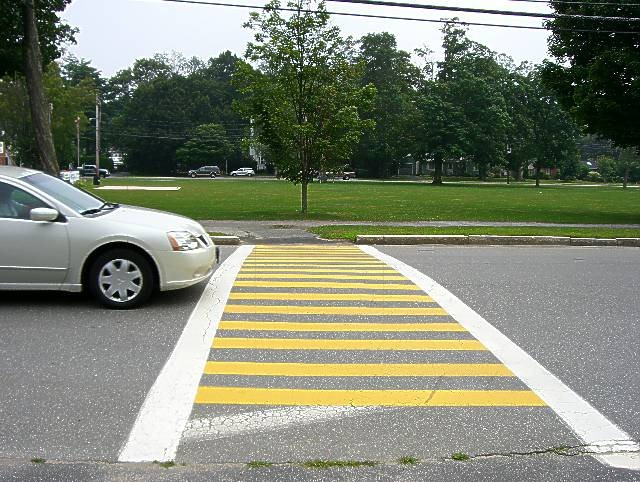car: (0, 166, 218, 308)
crosswalk: (183, 246, 547, 457)
vegetation: (236, 0, 375, 212), (91, 180, 639, 224), (24, 0, 58, 174)
